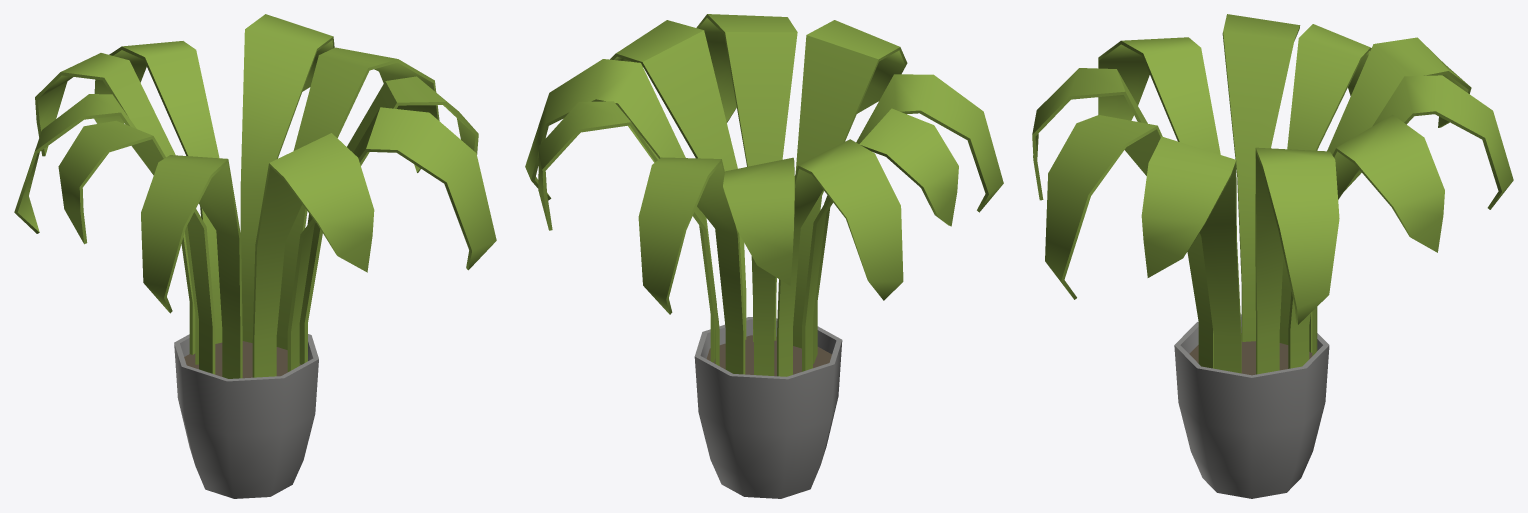
File: Houseplant_6.glb
3 renders of one model, left to right at view 1: azimuth 30°, elevation 25°; view 2: azimuth 150°, elevation 25°; view 3: azimuth 270°, elevation 25°, orthographic. The views are drawn at different scales.
Parts seen in each view (by area): view 1: Houseplant_6; view 2: Houseplant_6; view 3: Houseplant_6.
Part boxes in pixels (box(x1,y1,x2,y2)): Houseplant_6: box(14, 14, 496, 498); Houseplant_6: box(525, 14, 1003, 498); Houseplant_6: box(1032, 14, 1513, 498).
Bounding box in the file's own units: 1.04 × 0.9586 × 1.05.
